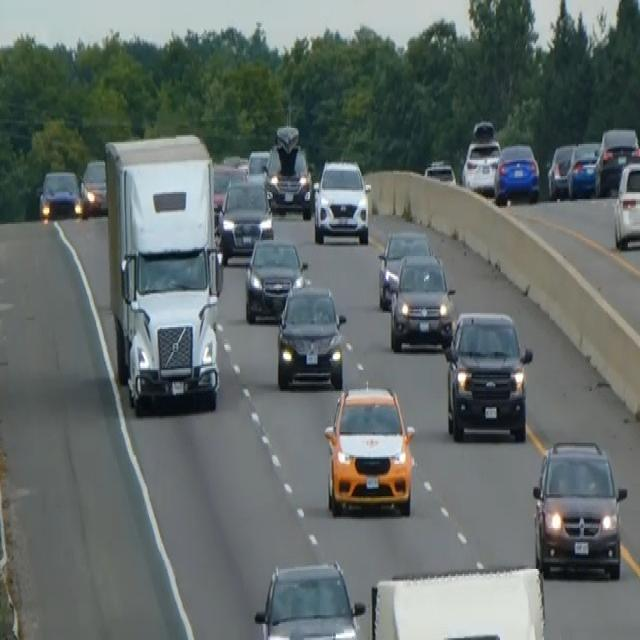car: (531, 438, 627, 580), (370, 564, 547, 638), (323, 380, 416, 518), (440, 308, 532, 442), (253, 558, 365, 638), (276, 279, 346, 389), (388, 251, 455, 352), (244, 234, 307, 324), (313, 157, 371, 246), (217, 176, 274, 261), (264, 124, 313, 218), (377, 228, 430, 310), (594, 124, 639, 196), (493, 140, 540, 204), (461, 119, 501, 194), (612, 156, 639, 249), (38, 167, 84, 221), (211, 160, 246, 229), (566, 139, 601, 197), (546, 142, 575, 199), (81, 157, 107, 215), (423, 156, 456, 185), (247, 148, 269, 178)
lorry: (103, 130, 224, 414)
